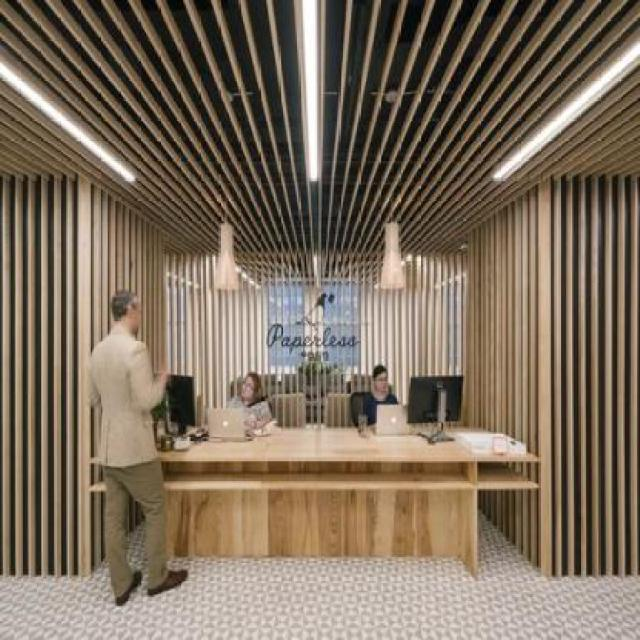frontdesk: (78, 398, 556, 597)
